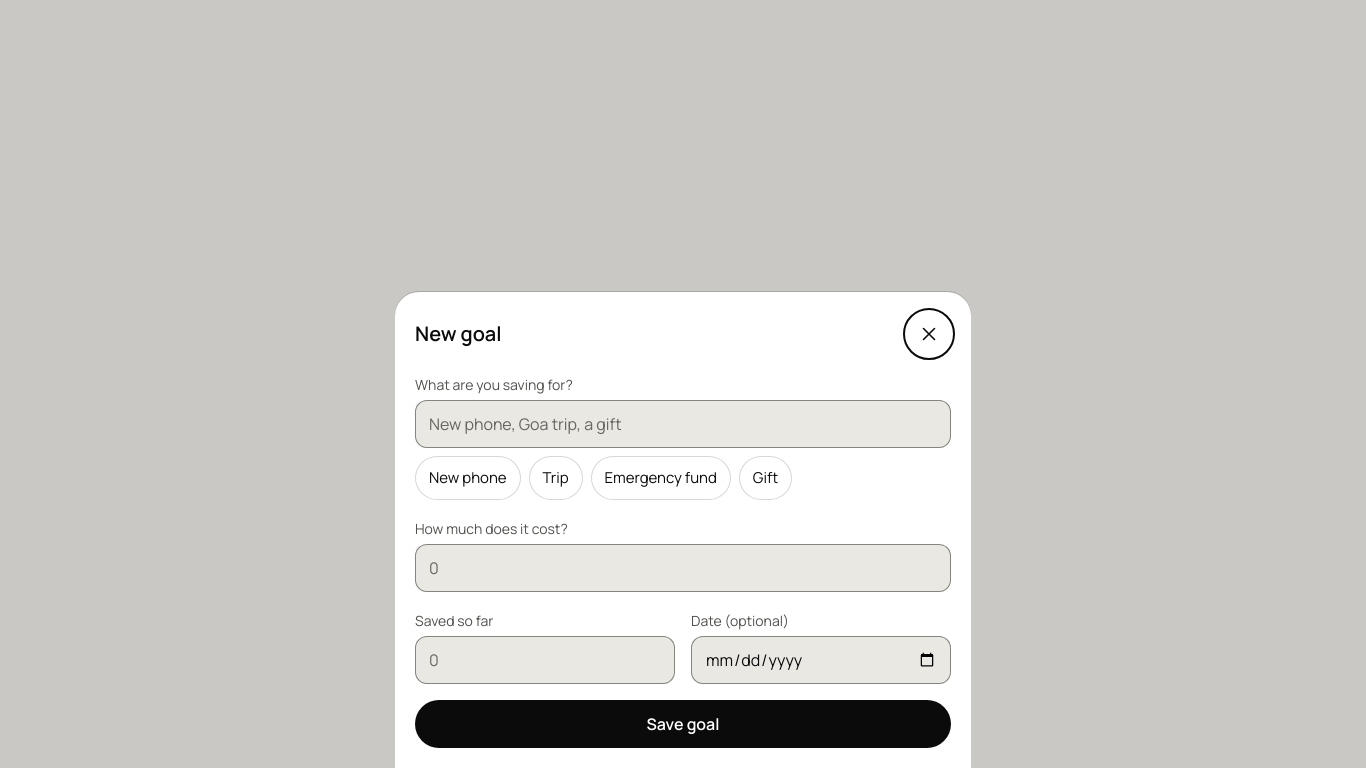
Test: GoalSheet: making a goal › fills the name from an idea
Click the button "Emergency fund": (661, 478) x1=590 y1=456 x2=731 y2=500
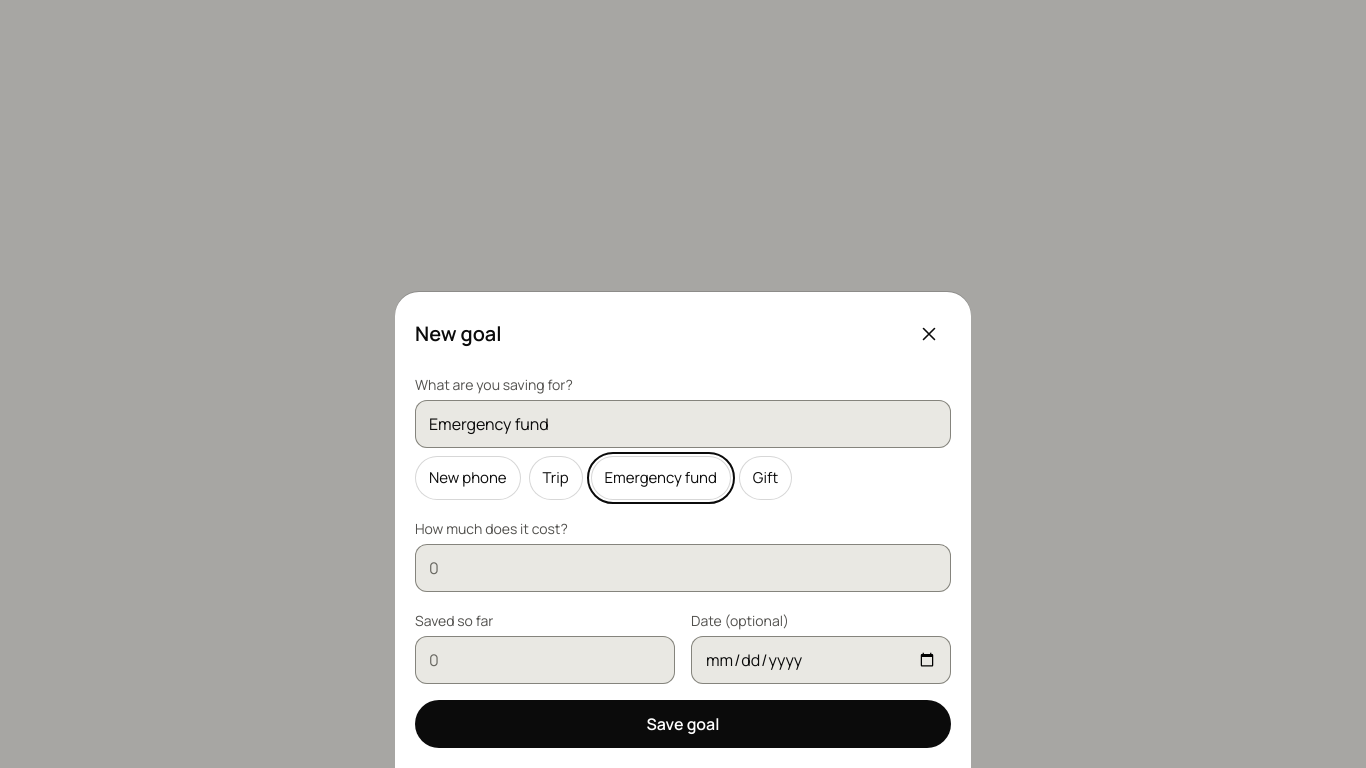
expect the field labelled "What are you saving for?" holds "Emergency fund": met, box x1=415 y1=400 x2=951 y2=448
